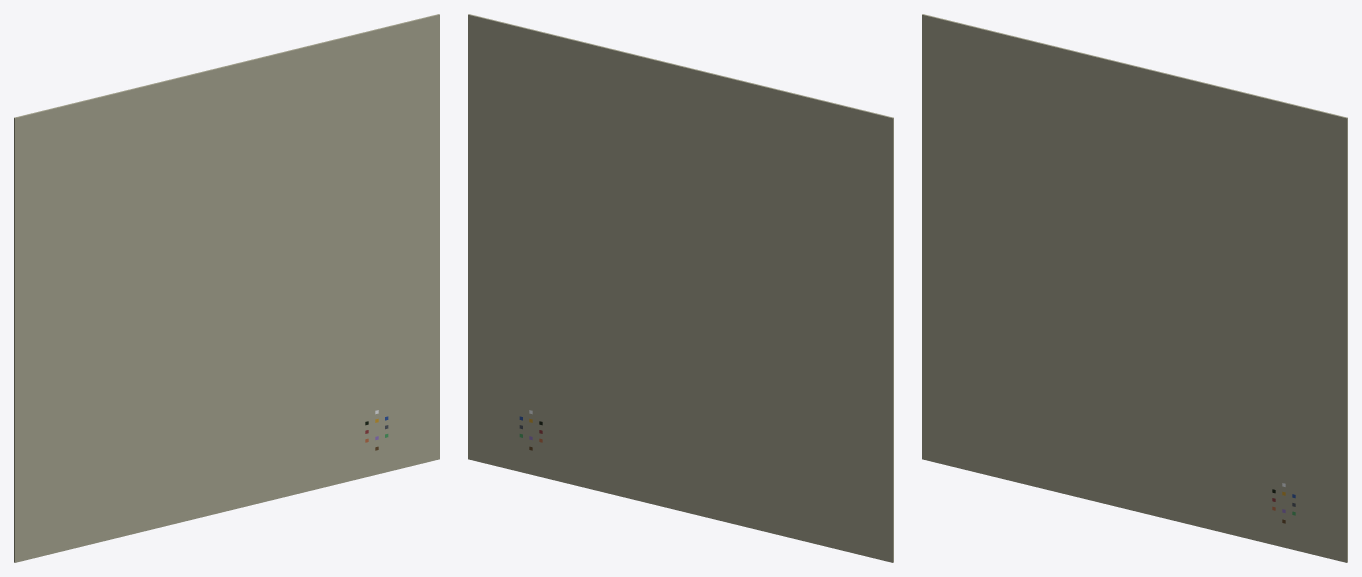
The model's file is forest1-0.obj.
The picture shows the model from 3 angles, left to right: view 1: azimuth 30°, elevation 25°; view 2: azimuth 150°, elevation 25°; view 3: azimuth 330°, elevation 25°; orthographic projection.
Bounding box in the file's own units: 25.6 × 25.6 × 0.1.
Materials: 1 (1 with a texture image).
